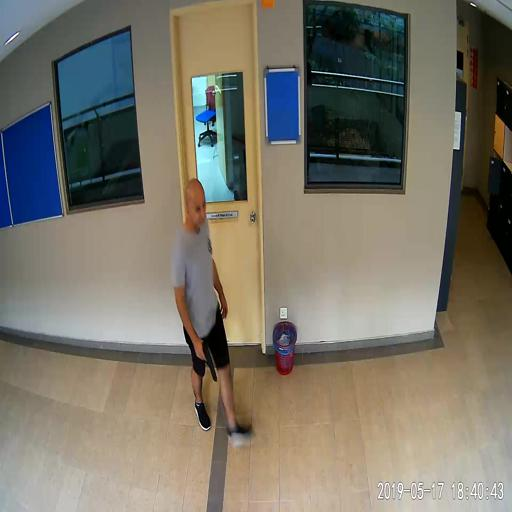pistol: (194, 341, 216, 382)
